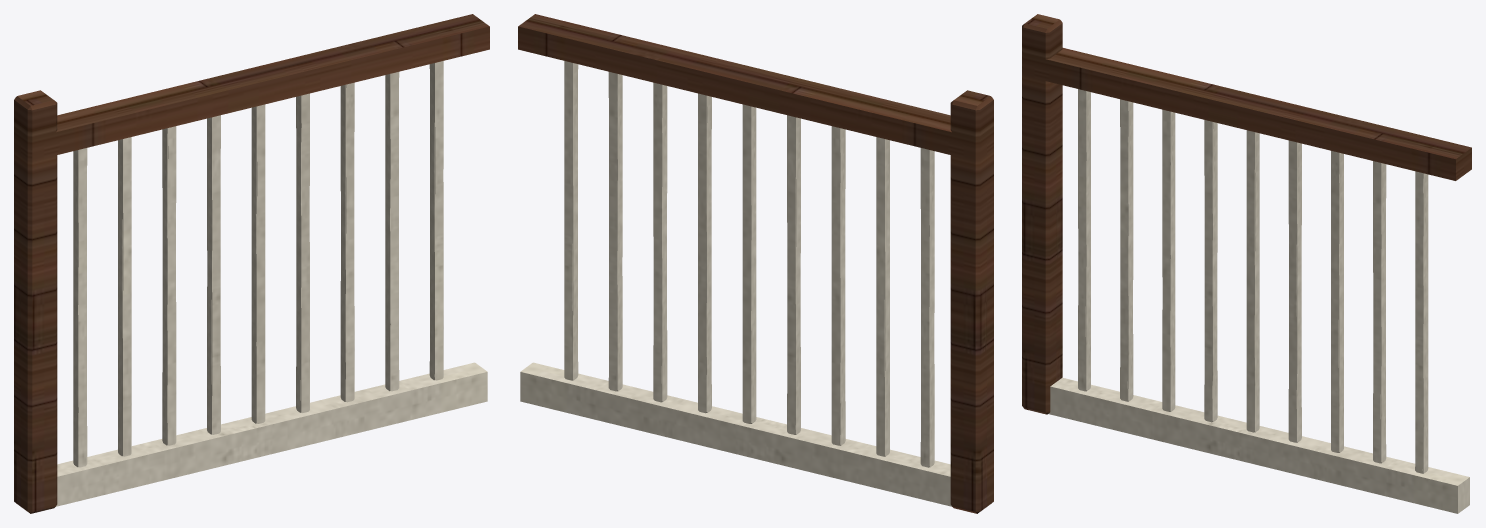
The model's file is rail_121_10.glb.
3 renders of one model, left to right at view 1: azimuth 30°, elevation 25°; view 2: azimuth 150°, elevation 25°; view 3: azimuth 330°, elevation 25°, orthographic. The views are drawn at different scales.
Visible parts, largest first — view 1: rail_121_10_trim, rail_121_10_wood; view 2: rail_121_10_trim, rail_121_10_wood; view 3: rail_121_10_trim, rail_121_10_wood.
Boxes of the visible parts, box(x1,y1,x2,y2) form: rail_121_10_trim: box(56, 61, 487, 506); rail_121_10_wood: box(14, 14, 489, 513); rail_121_10_trim: box(520, 61, 951, 506); rail_121_10_wood: box(518, 14, 993, 513); rail_121_10_trim: box(1048, 89, 1469, 513); rail_121_10_wood: box(1022, 14, 1471, 414).
Bounding box in the file's own units: 1.25 × 1.06 × 0.08.
2 materials, 2 textured.
